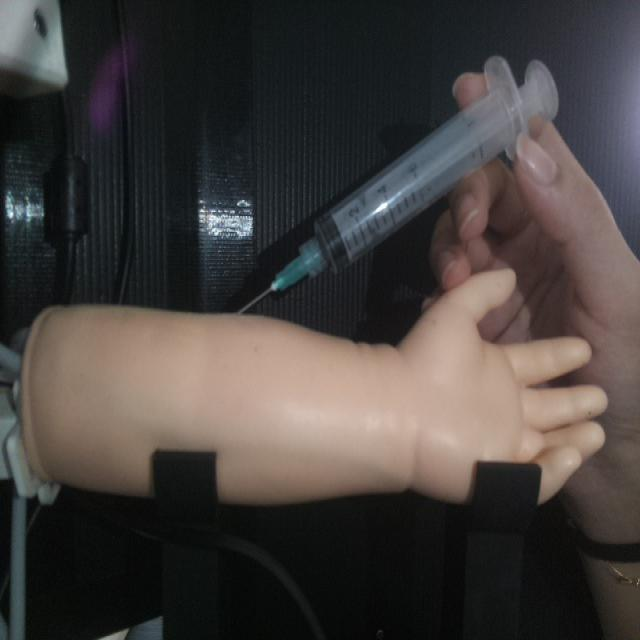Outside: (233, 52, 560, 315)
